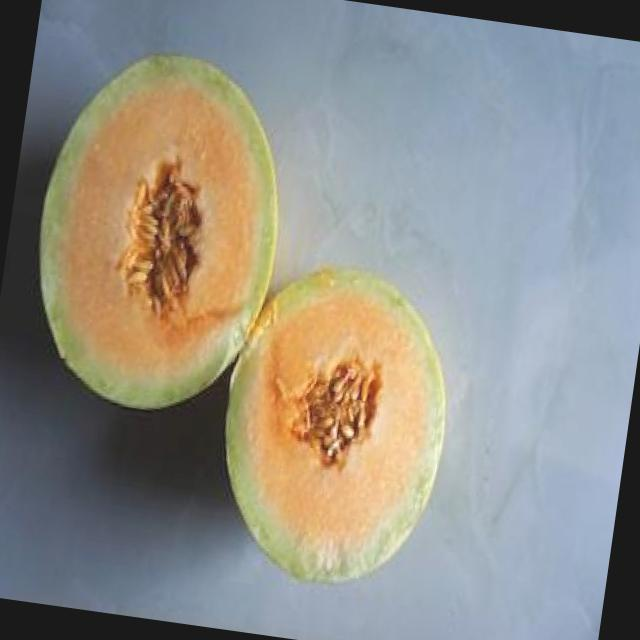cantaloupe: (19, 43, 300, 426), (206, 252, 467, 600)
